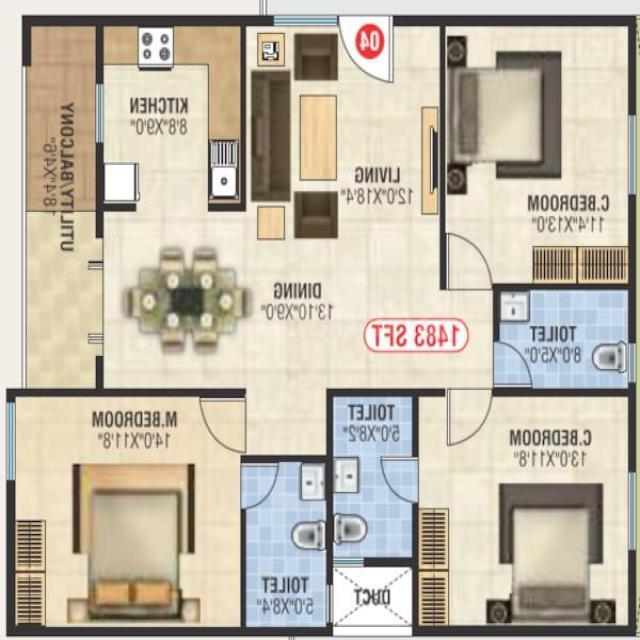Balcony-Sitout: (26, 27, 96, 183)
Bedroom: (447, 27, 629, 284)
Bedroom with Toilet: (14, 391, 329, 631), (330, 392, 629, 626)
Dining: (117, 239, 256, 362)
Enterance-Foyer: (336, 14, 397, 86)
Kitchen: (105, 26, 241, 202)
Living: (246, 26, 440, 243)
Toilet: (246, 463, 326, 627), (499, 290, 628, 390), (333, 398, 412, 557)
Utility: (27, 183, 96, 387)
